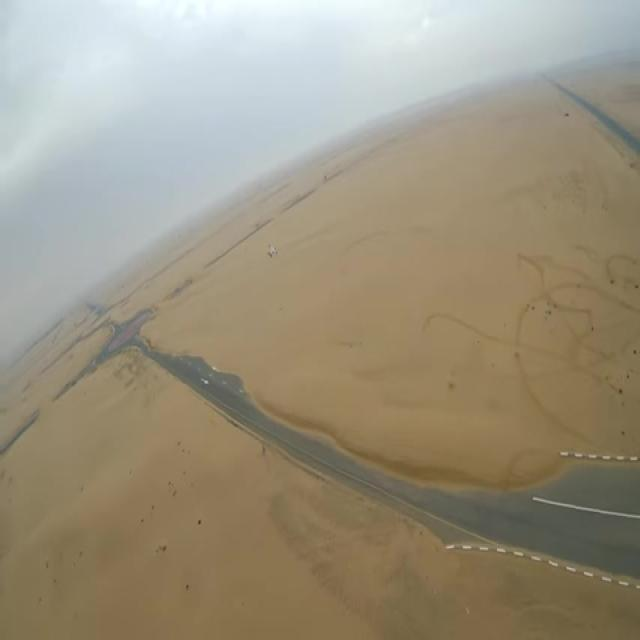iha: (271, 249, 274, 254)
